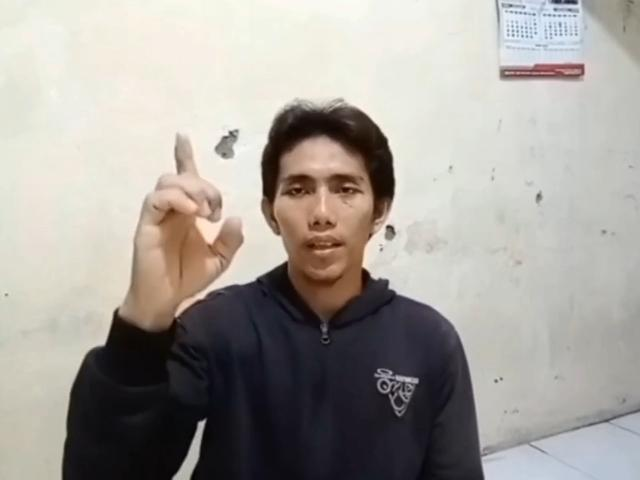D: (126, 128, 244, 294)
